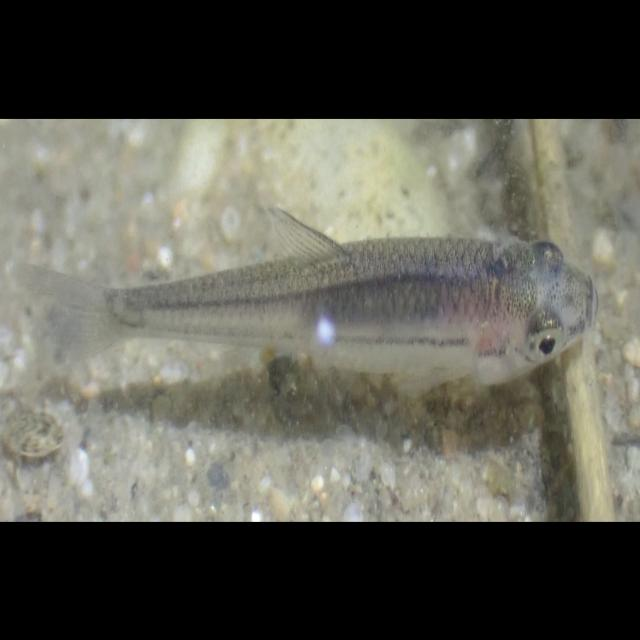Cakil Baligi: (6, 198, 617, 413)
